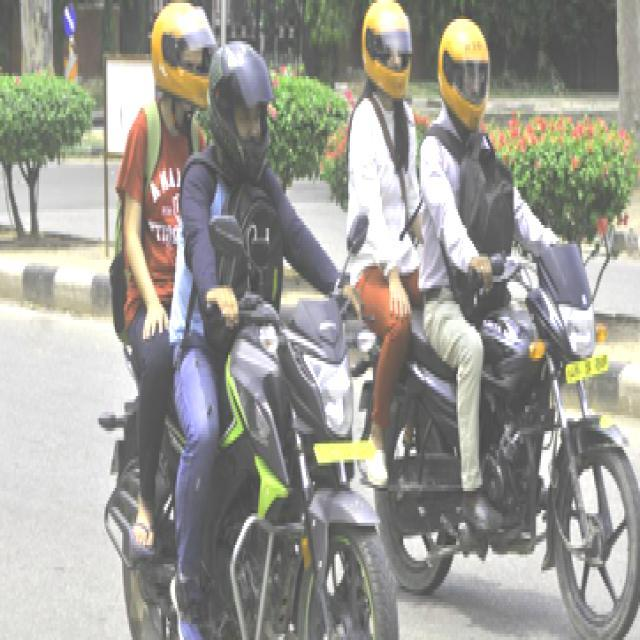Helmet: (205, 29, 281, 178), (431, 6, 497, 146)
